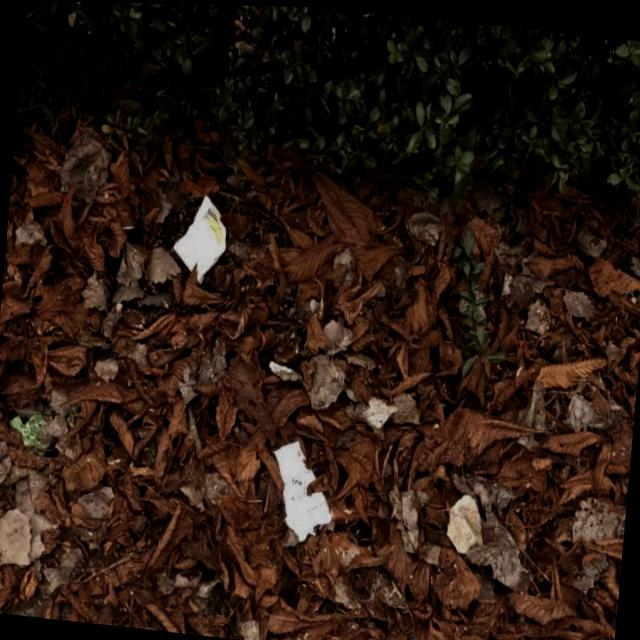Paper: (174, 195, 230, 272)
